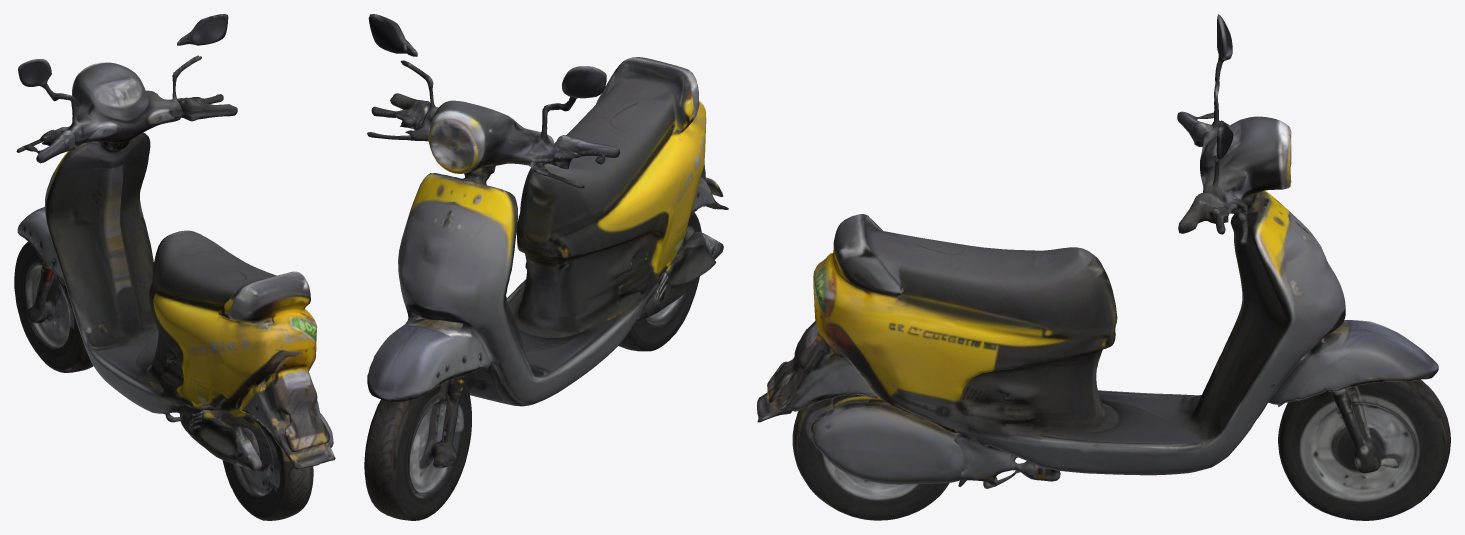
Rendered from Yellow_and_Gray_Scoot_0905104728.fbx.
The picture shows the model from 3 angles, left to right: view 1: azimuth 30°, elevation 25°; view 2: azimuth 150°, elevation 25°; view 3: azimuth 270°, elevation 25°; orthographic projection. The views are drawn at different scales.
Parts seen in each view (by area): view 1: Mesh_0; view 2: Mesh_0; view 3: Mesh_0.
Part boxes in pixels (x1,y1,x2,y2): Mesh_0: (14, 14, 335, 520); Mesh_0: (364, 14, 728, 520); Mesh_0: (757, 14, 1450, 520).
Size of the model in its own units: 83.7 by 142 by 201.
1 material, 1 textured.
